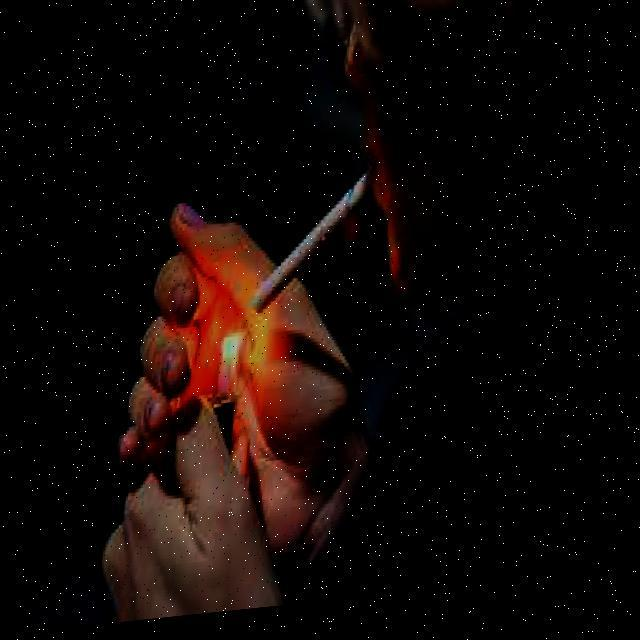Fire: (210, 319, 266, 407)
